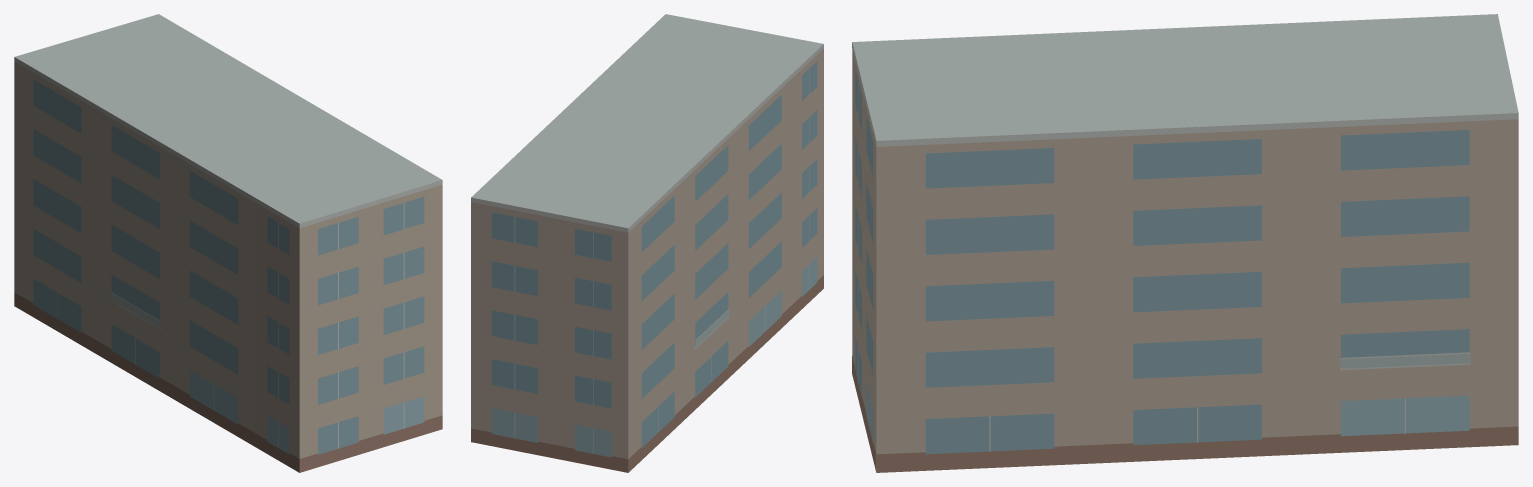
File: survey-upis-32620411.glb
The picture shows the model from 3 angles, left to right: view 1: azimuth 30°, elevation 25°; view 2: azimuth 150°, elevation 25°; view 3: azimuth 270°, elevation 25°; orthographic projection. The views are drawn at different scales.
Parts seen in each view (by area): view 1: survey-upis-32620411.tmp; view 2: survey-upis-32620411.tmp; view 3: survey-upis-32620411.tmp.
Part boxes in pixels (box(x1,y1,x2,y2)): survey-upis-32620411.tmp: box(14, 14, 442, 472); survey-upis-32620411.tmp: box(471, 14, 823, 472); survey-upis-32620411.tmp: box(852, 14, 1518, 472).
Size of the model in its own units: 10.91 by 13.3 by 24.21.
